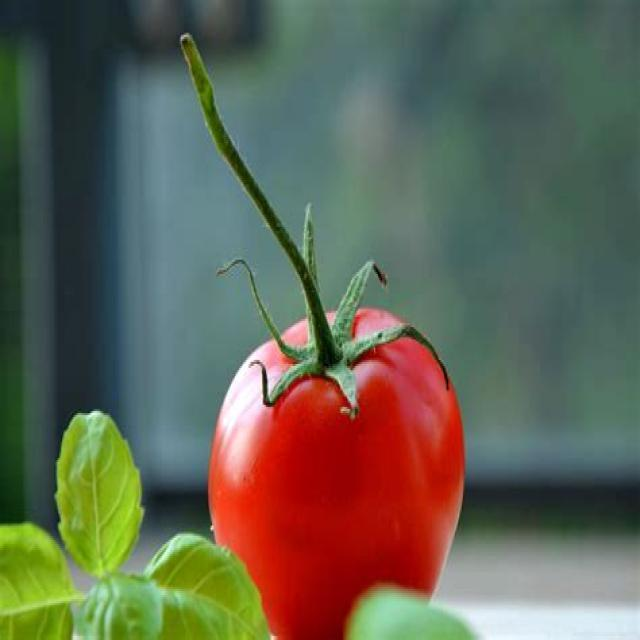Tomato: (207, 270, 467, 640)
